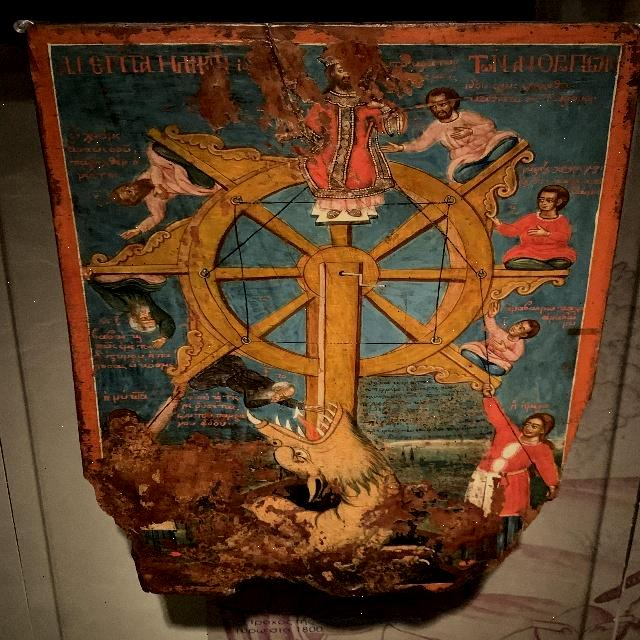dragon: (222, 402, 412, 574)
